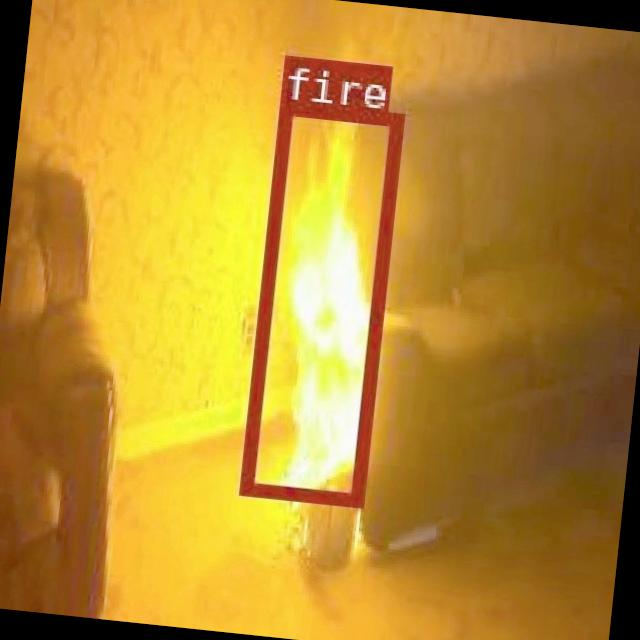fire: (238, 100, 402, 505)
